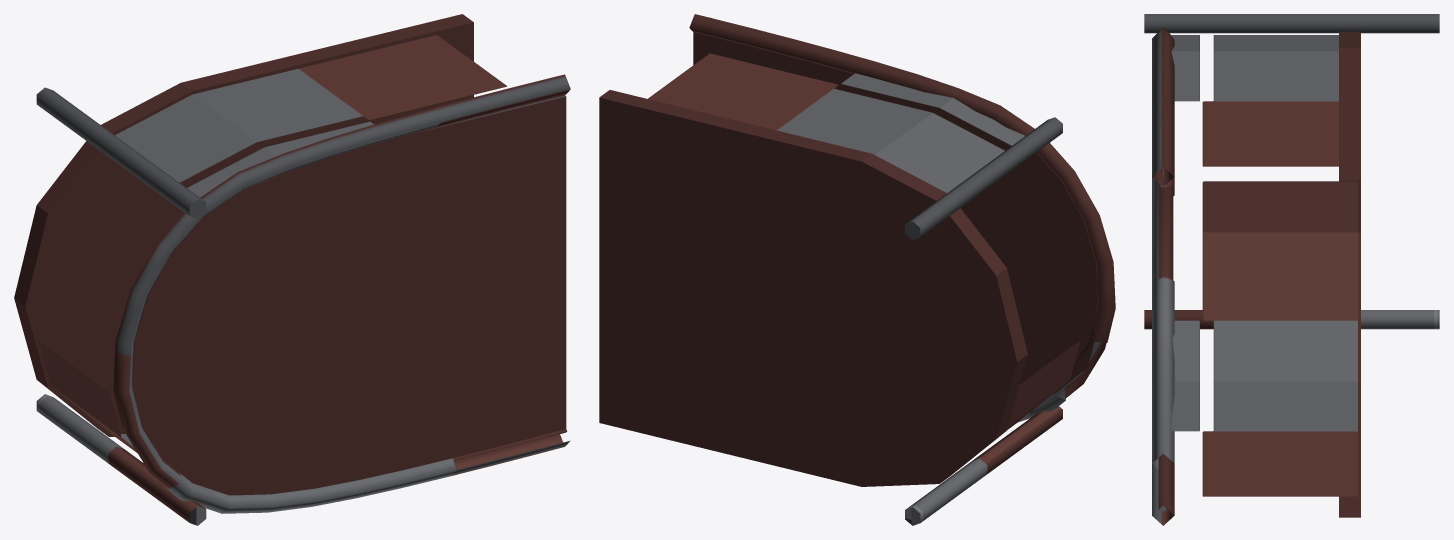
File: section-0.obj
3 renders of one model, left to right at view 1: azimuth 30°, elevation 25°; view 2: azimuth 150°, elevation 25°; view 3: azimuth 270°, elevation 25°, orthographic. The views are drawn at different scales.
Size of the model in its own units: 0.8015 by 0.6343 by 0.47.
